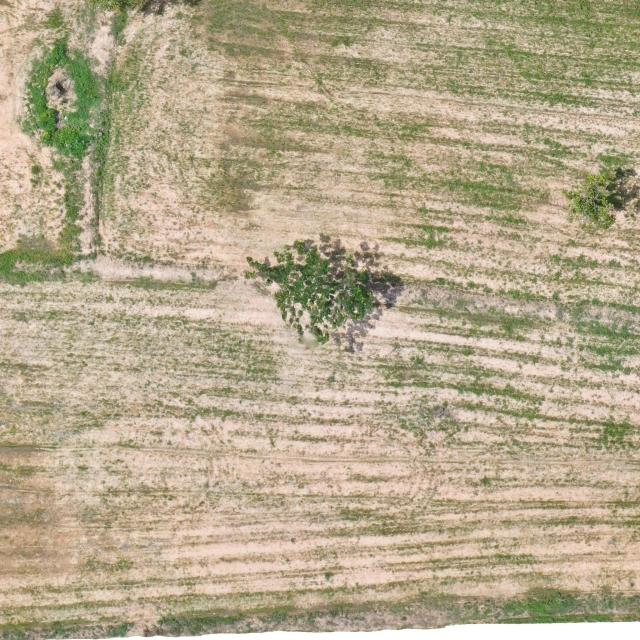Tree: (246, 238, 376, 348), (561, 164, 627, 231)
